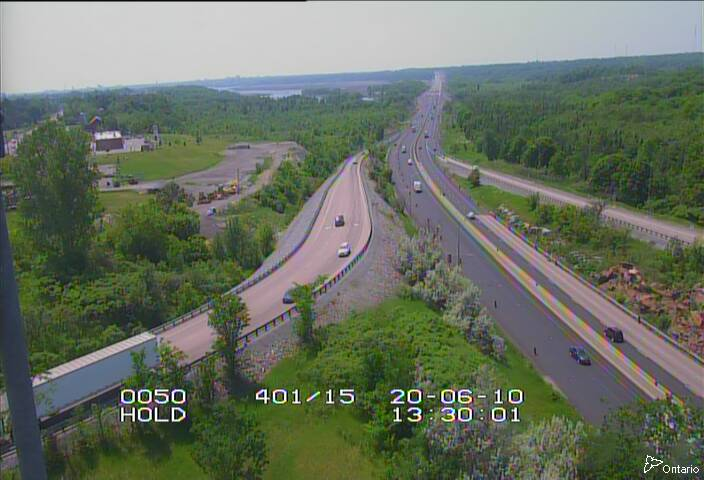time_stamp: (385, 383, 527, 406), (385, 405, 528, 427)
